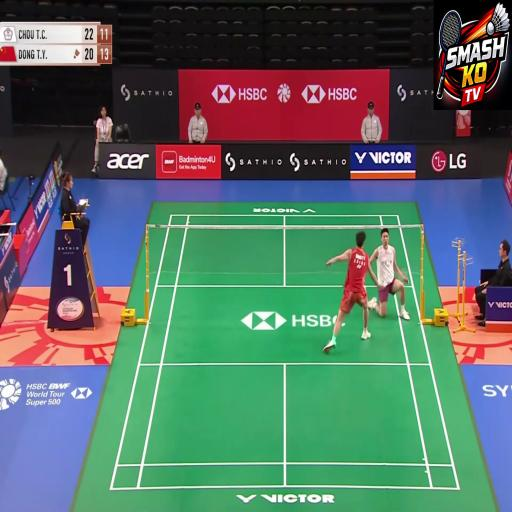player: (324, 216, 374, 363), (376, 206, 407, 343)
